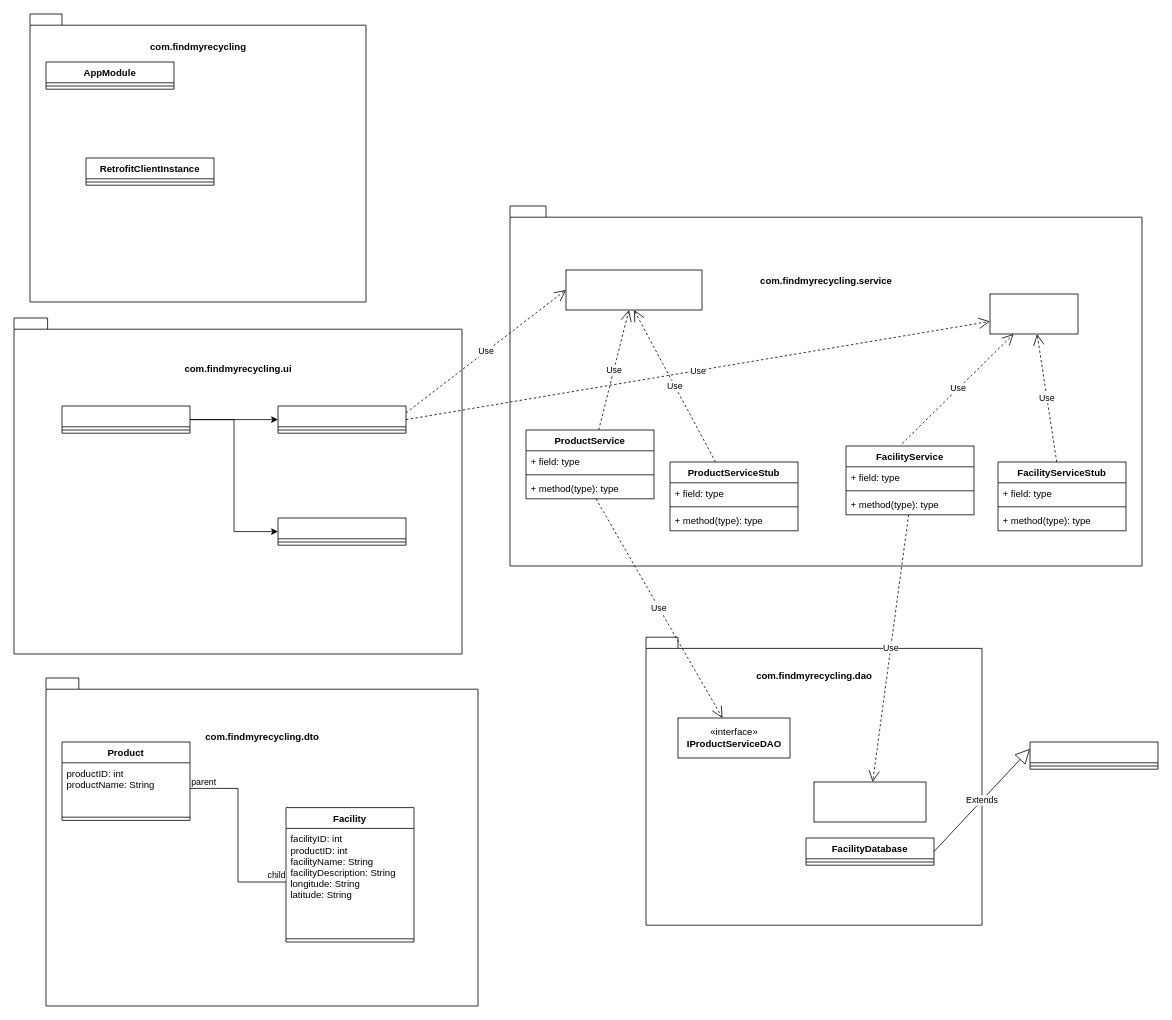
Some shapes in this 1172 by 1020 pixel diagram are drawn without their labels. The shapes that lost their labels are listed below. From the top down, each one's centre as x and y in pixels, then its label:
the point at 633,289: «interface» IProductService
the point at 1033,313: «interface» IFacilityService
the point at 125,419: MainActivity
the point at 341,419: ViewModel
the point at 341,531: ApplicationViewModel
the point at 1093,755: RoomDatabase
the point at 869,801: «interface» IFacilityServiceDAO
